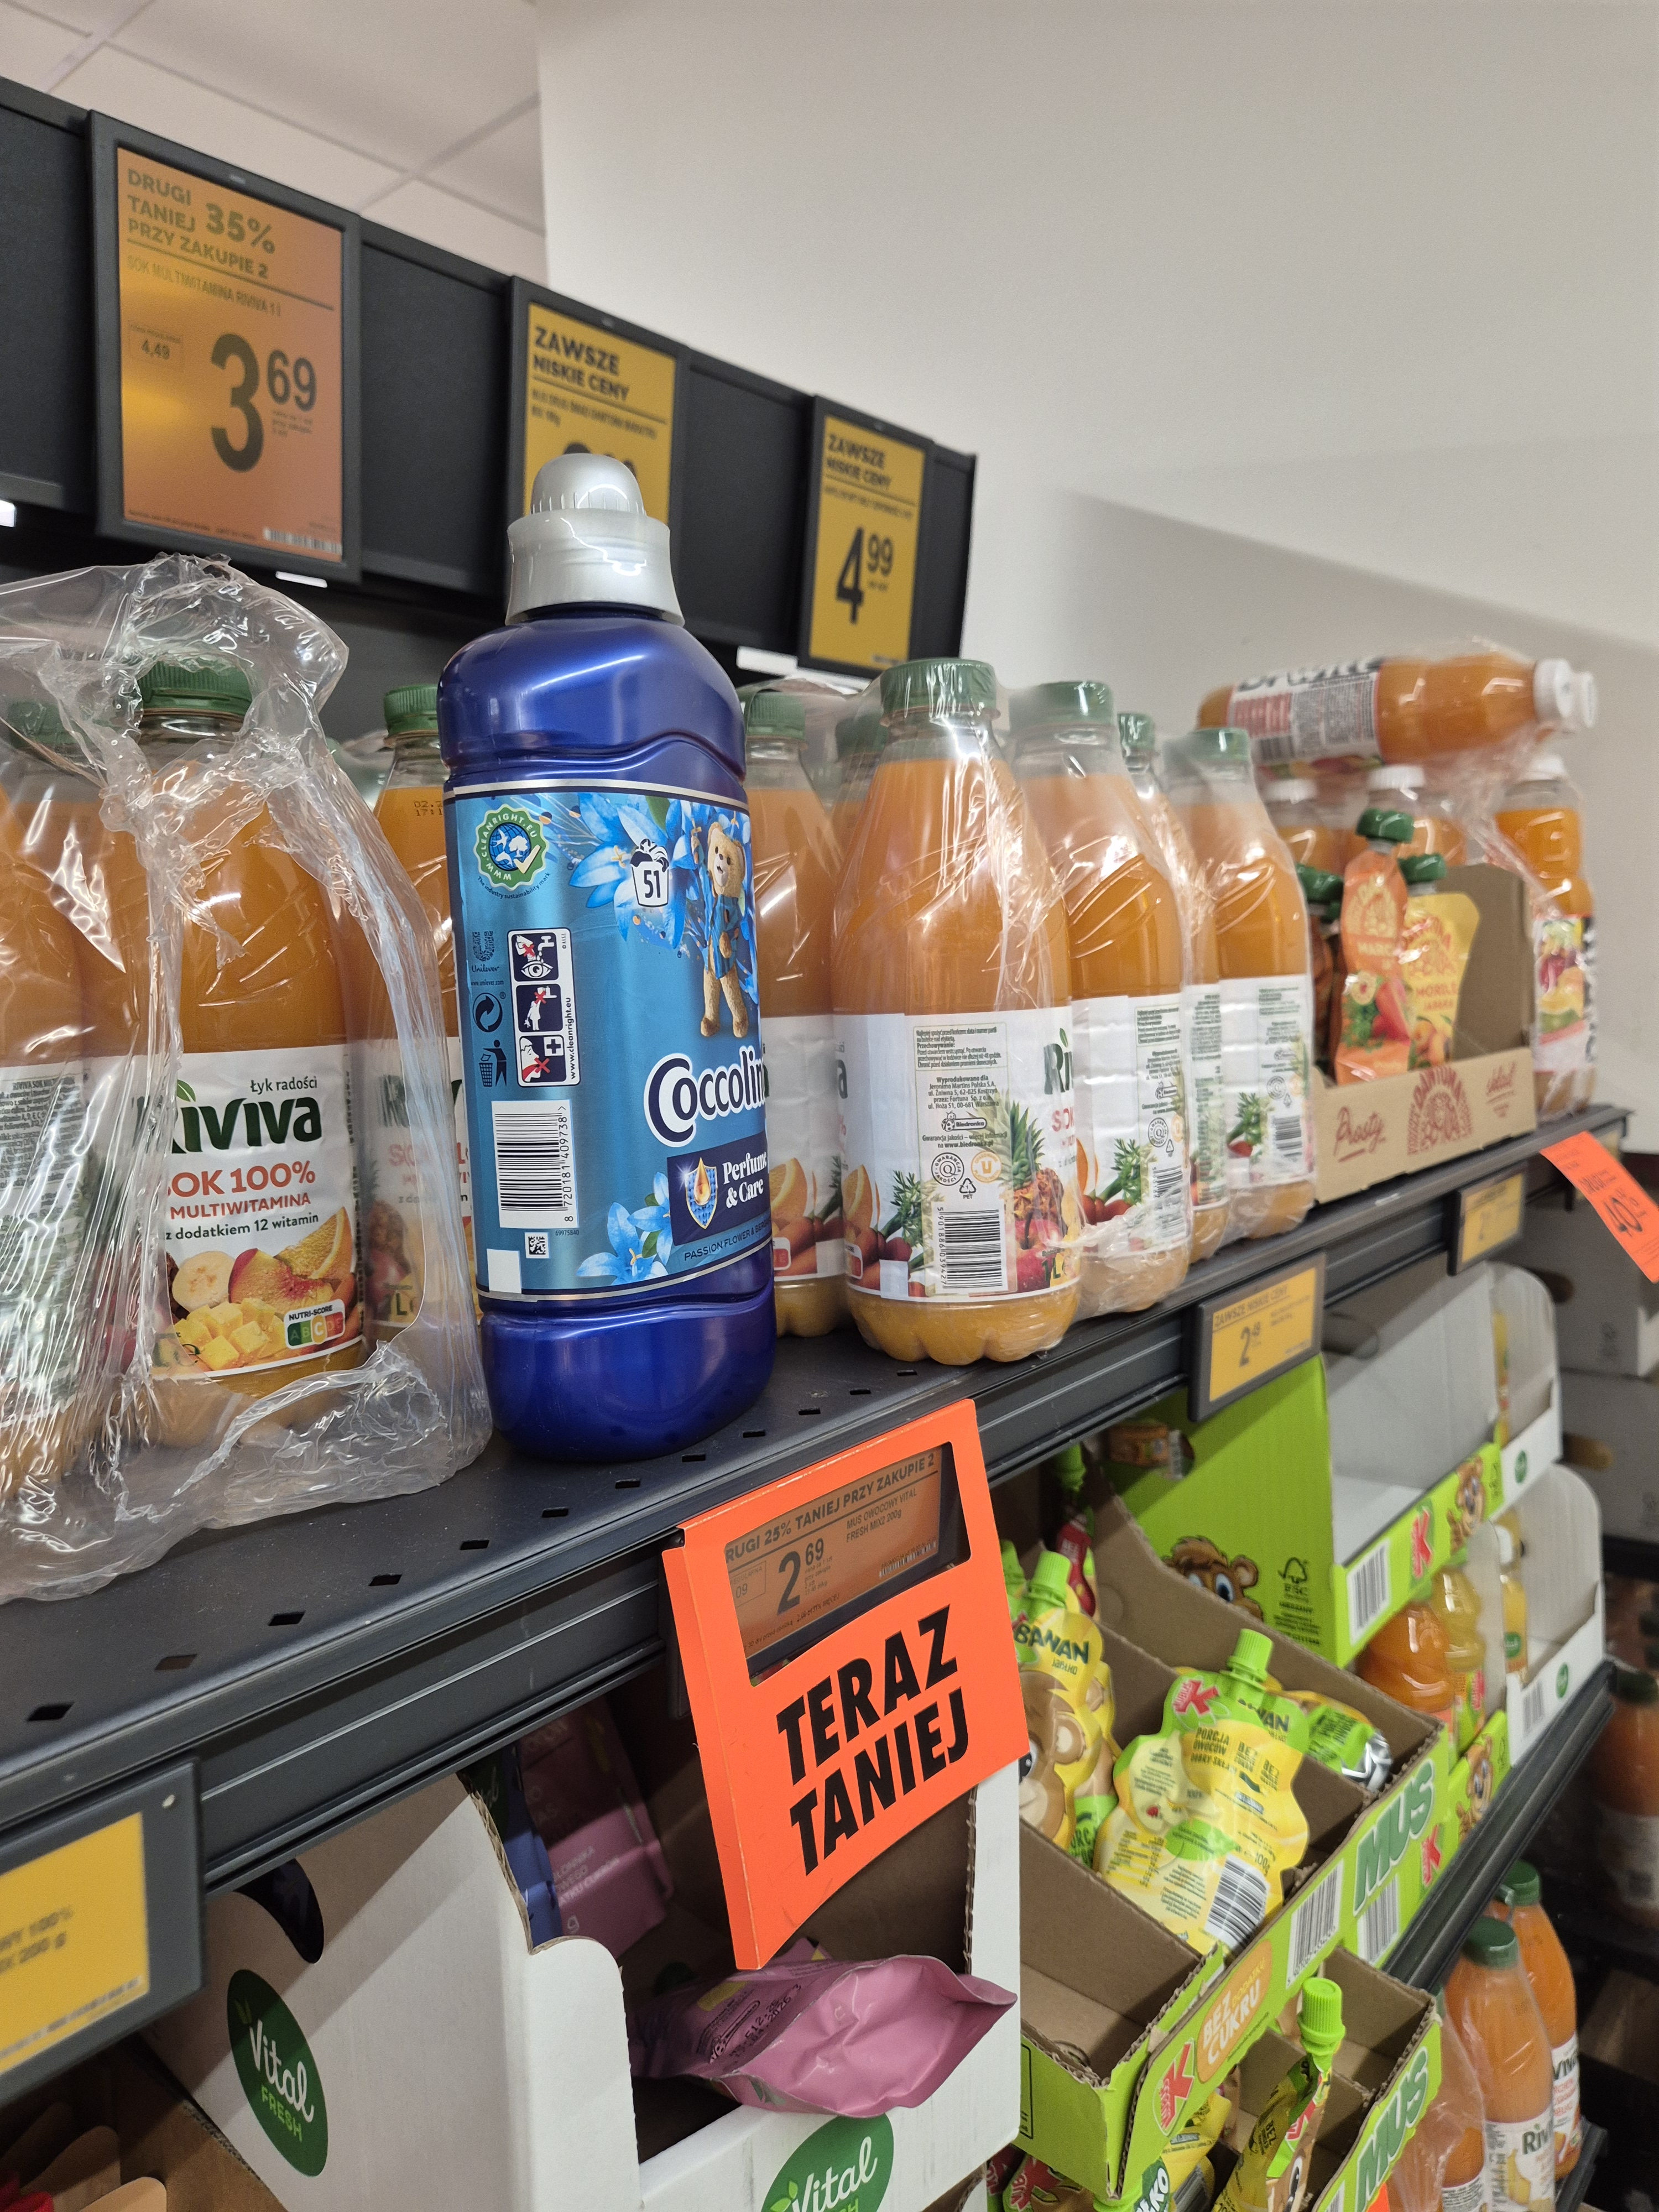cocolino: (420, 435, 802, 1449)
